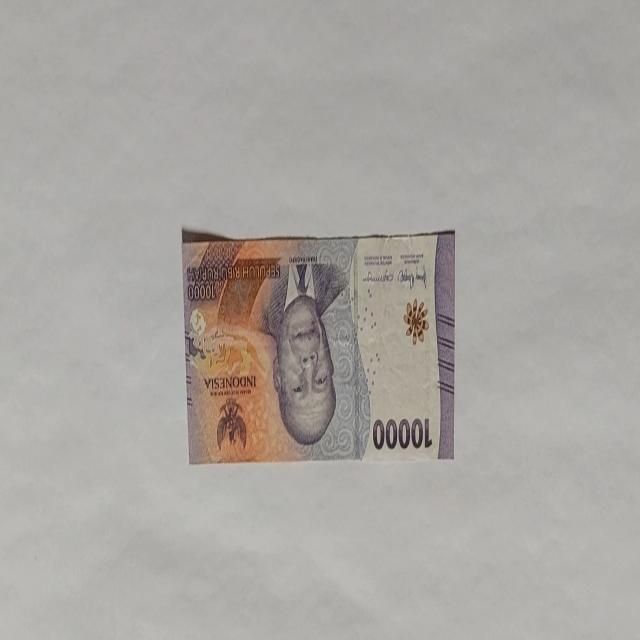sepuluh ribu rupiah: (180, 228, 456, 464), (272, 292, 338, 446)
